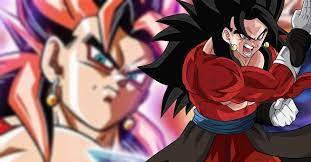Vegito: (36, 4, 156, 138), (217, 8, 281, 63)
